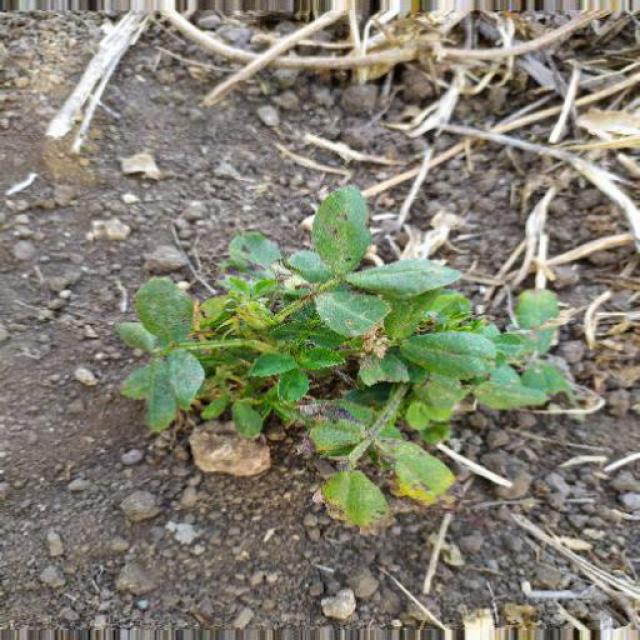weed: (113, 186, 578, 532)
